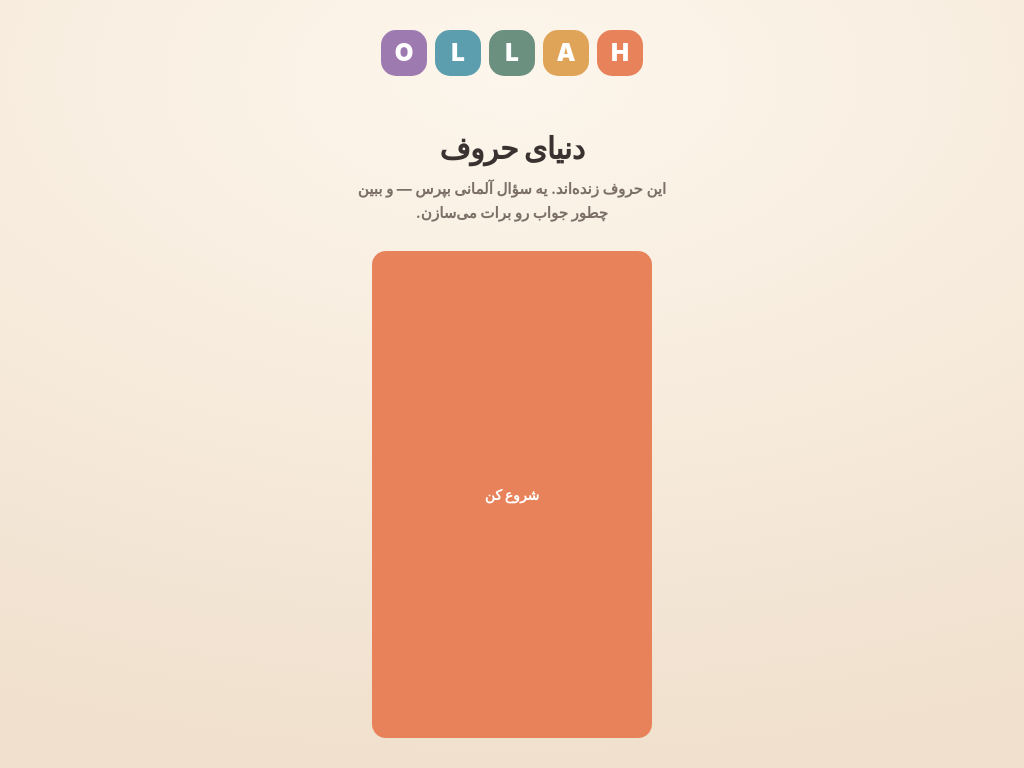
Test case: AlphabetWorld offline warning › shows offline banner when the API returns source=offline
Step 1. Click the button "شروع کن" → click(512, 494), box [372,251,652,738]
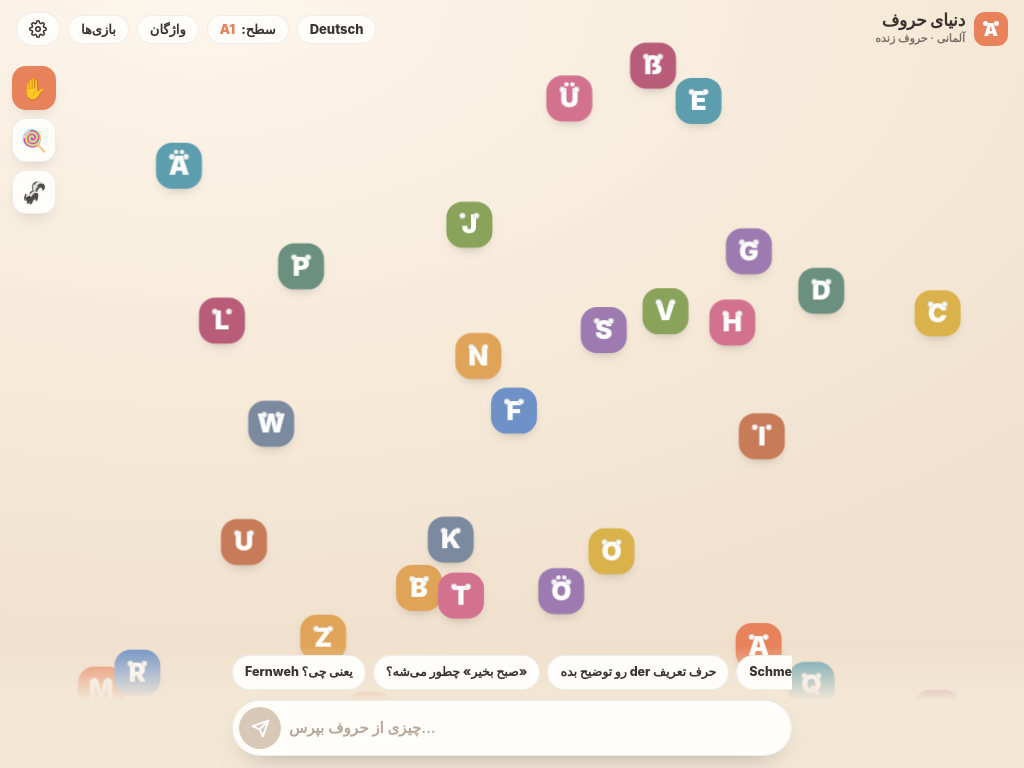
Step 2. Type "Hallo" into the field with placeholder "چیزی از حروف بپرس…" → (532, 728), box [289,717,775,739]
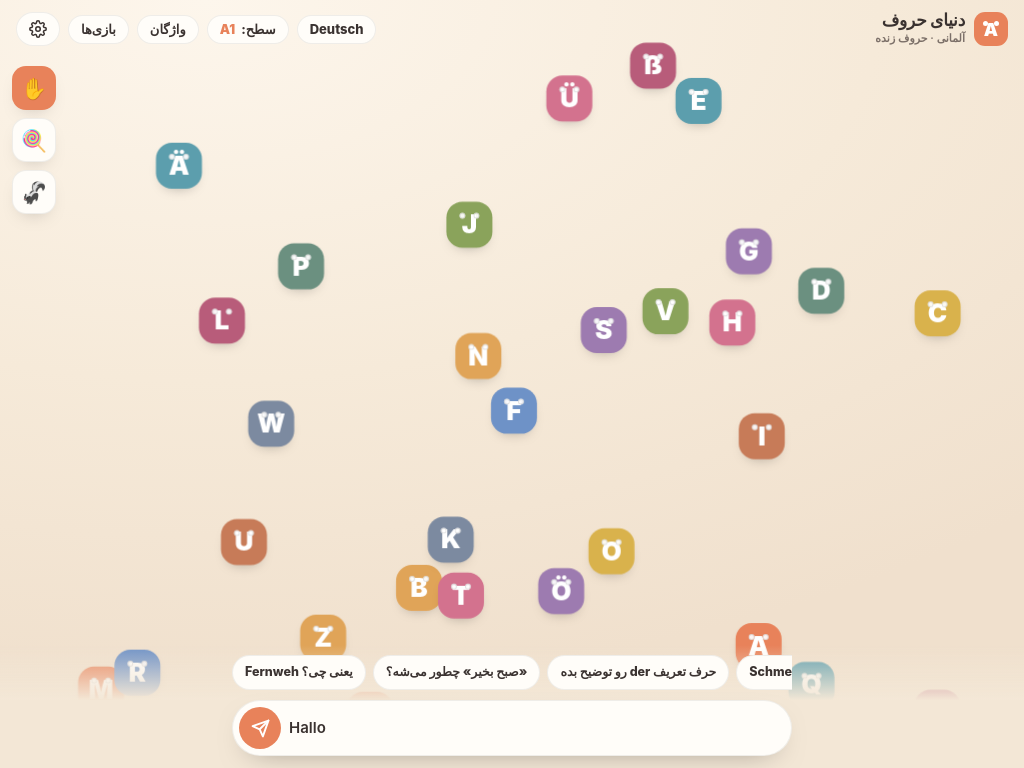
Step 3. Click the button named "ارسال" → click(260, 728), box [239,707,281,749]
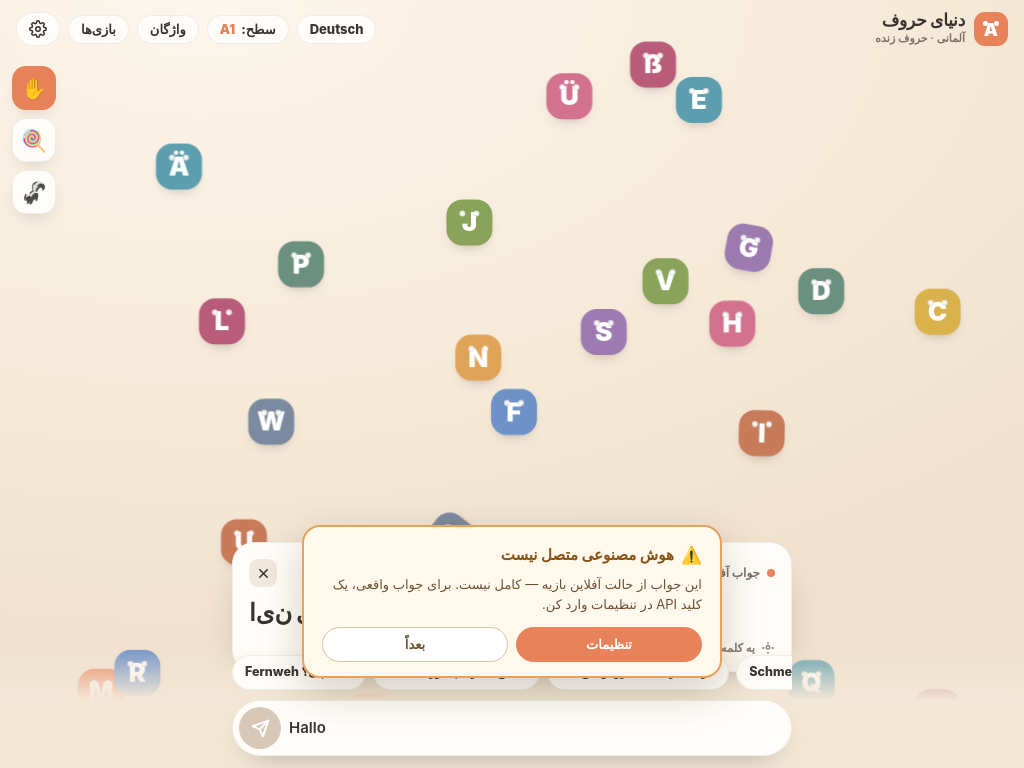
Result: the text "هوش مصنوعی متصل نیست" is shown at [501,545,674,564]
Result: the text "این جواب از حالت آفلاین بازیه" is shown at [333,576,702,612]
Result: the button "تنظیمات" is shown at [516,626,702,662]
